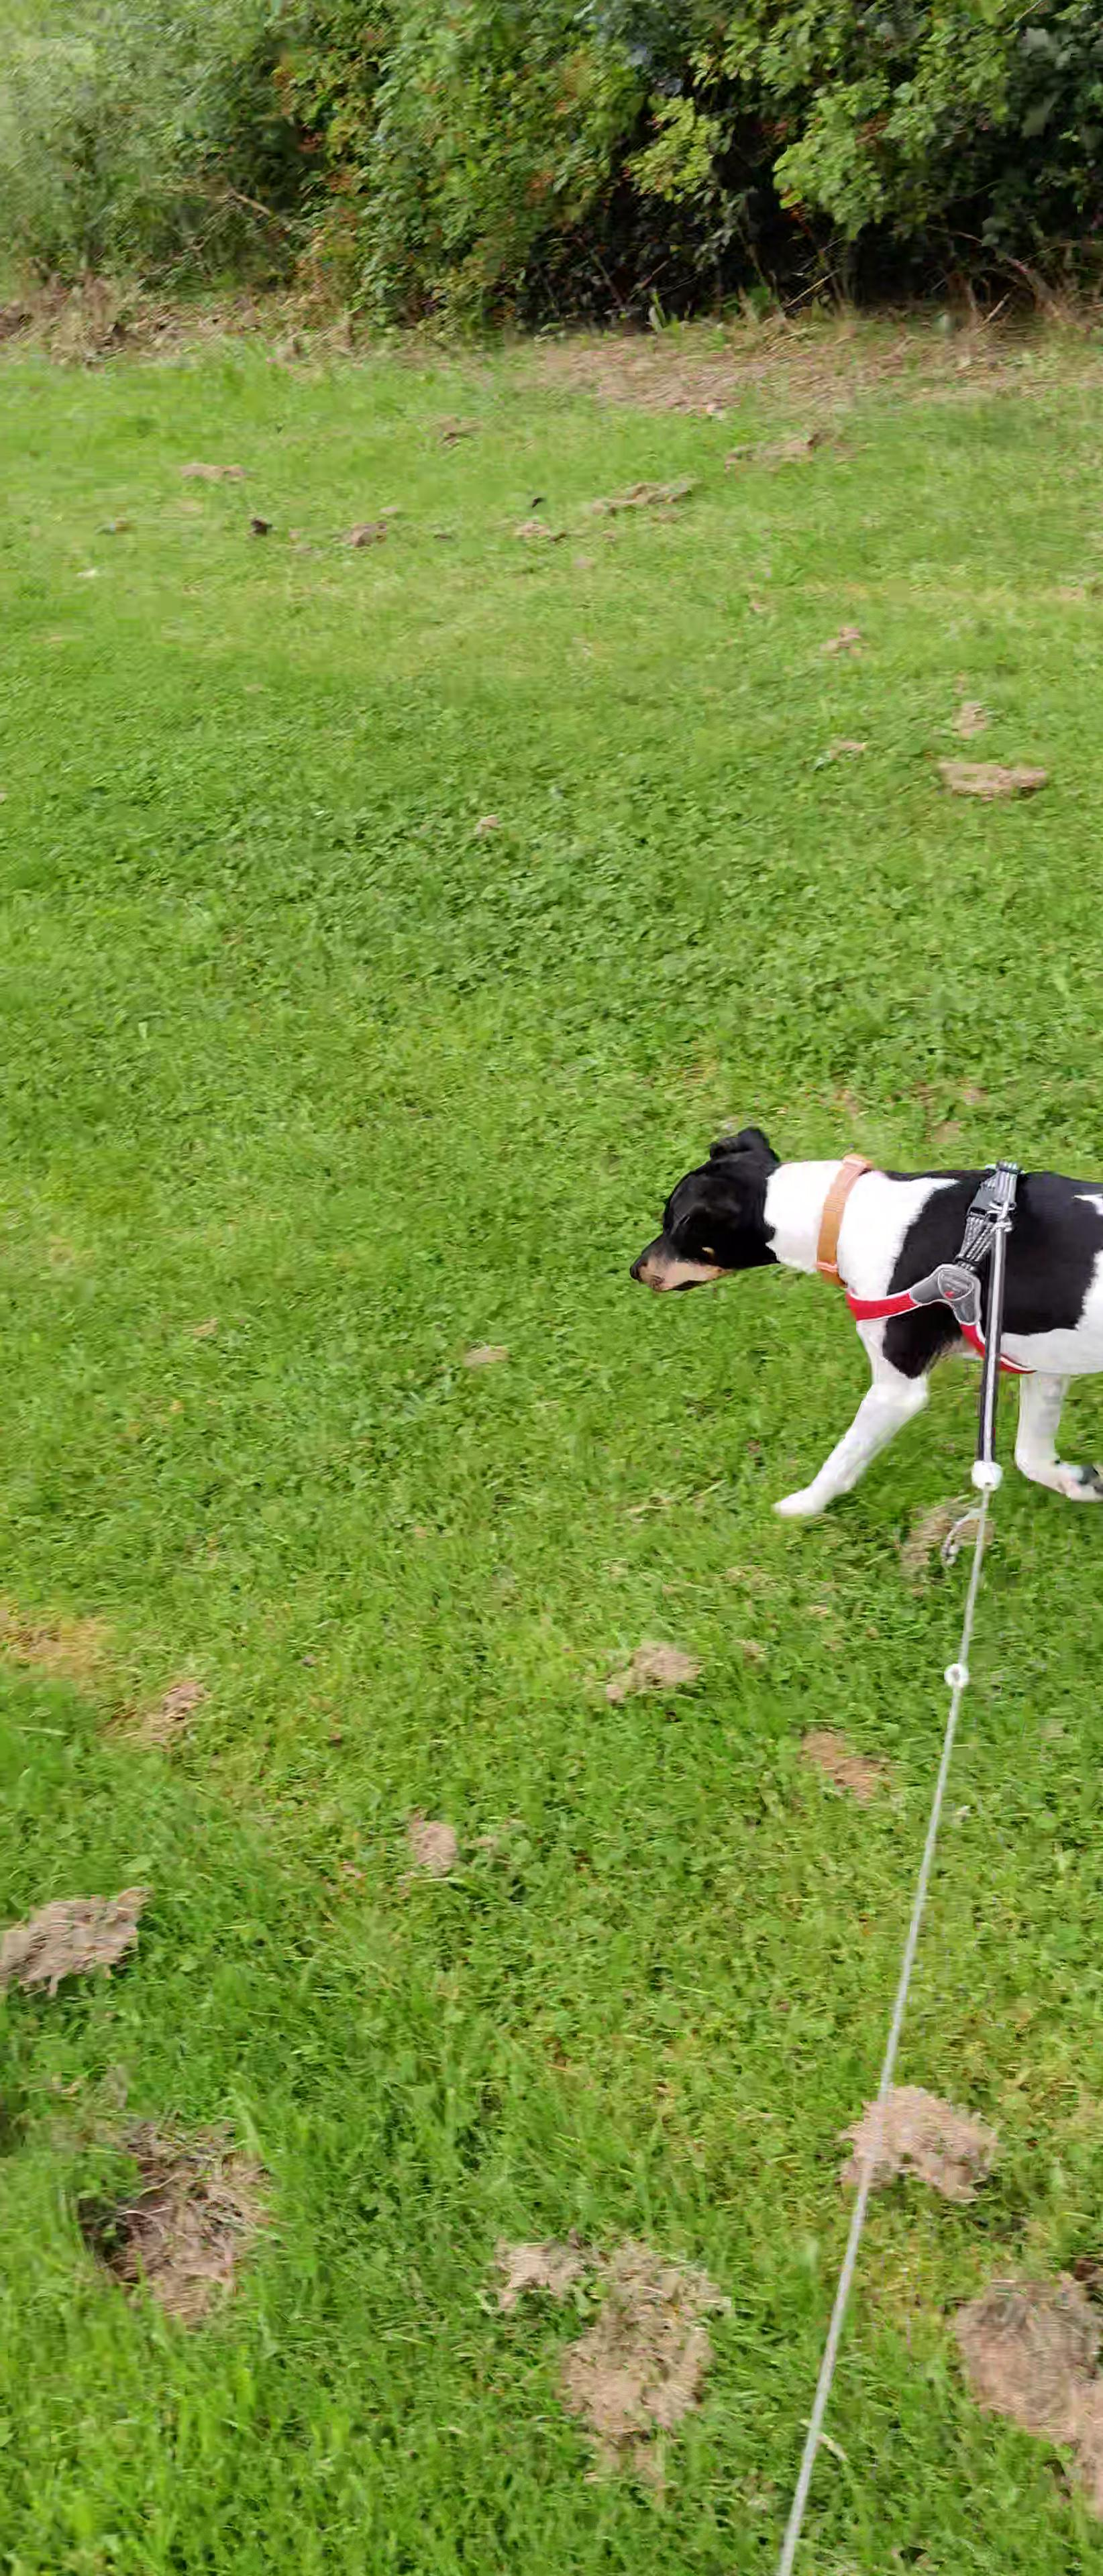Dog: (616, 1109, 1103, 1526)
